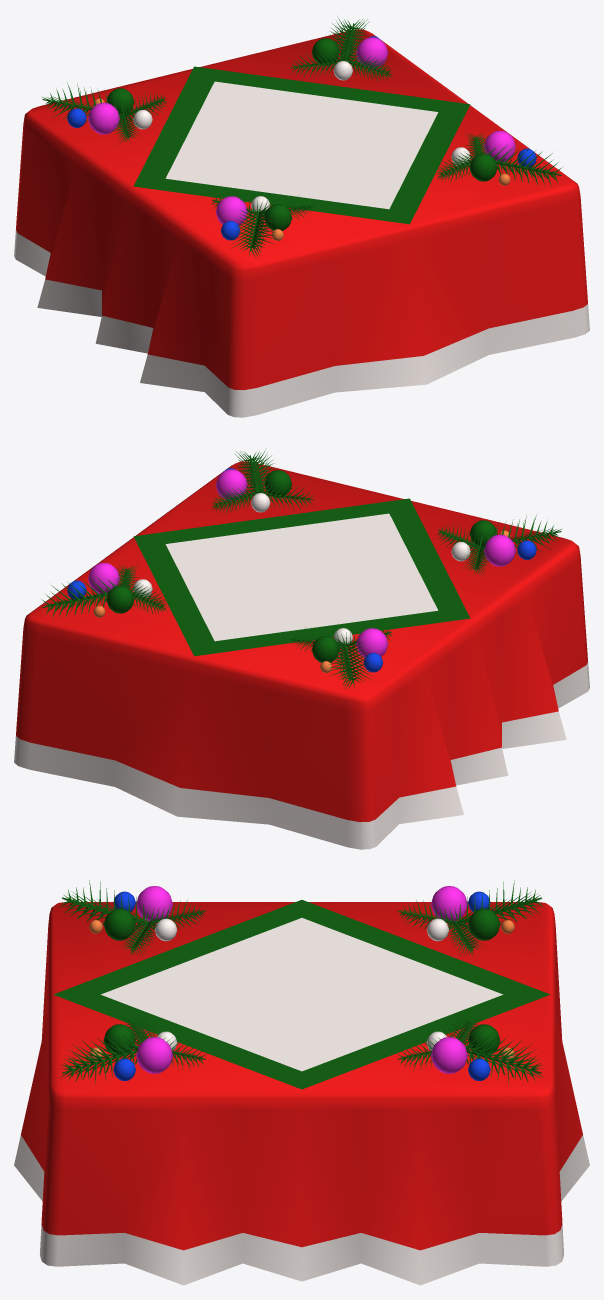
The model's file is ban 1_10.FBX.
3 renders of one model, top to bottom at view 1: azimuth 30°, elevation 25°; view 2: azimuth 150°, elevation 25°; view 3: azimuth 270°, elevation 25°, orthographic. The views are drawn at different scales.
Visible parts, largest first — view 1: Object1261; view 2: Object1261; view 3: Object1261.
Part boxes in pixels (x1,y1,x2,y2): Object1261: (14, 16, 589, 417); Object1261: (14, 448, 589, 849); Object1261: (14, 880, 589, 1285).
Size of the model in its own units: 3.37 by 1.32 by 3.41.
